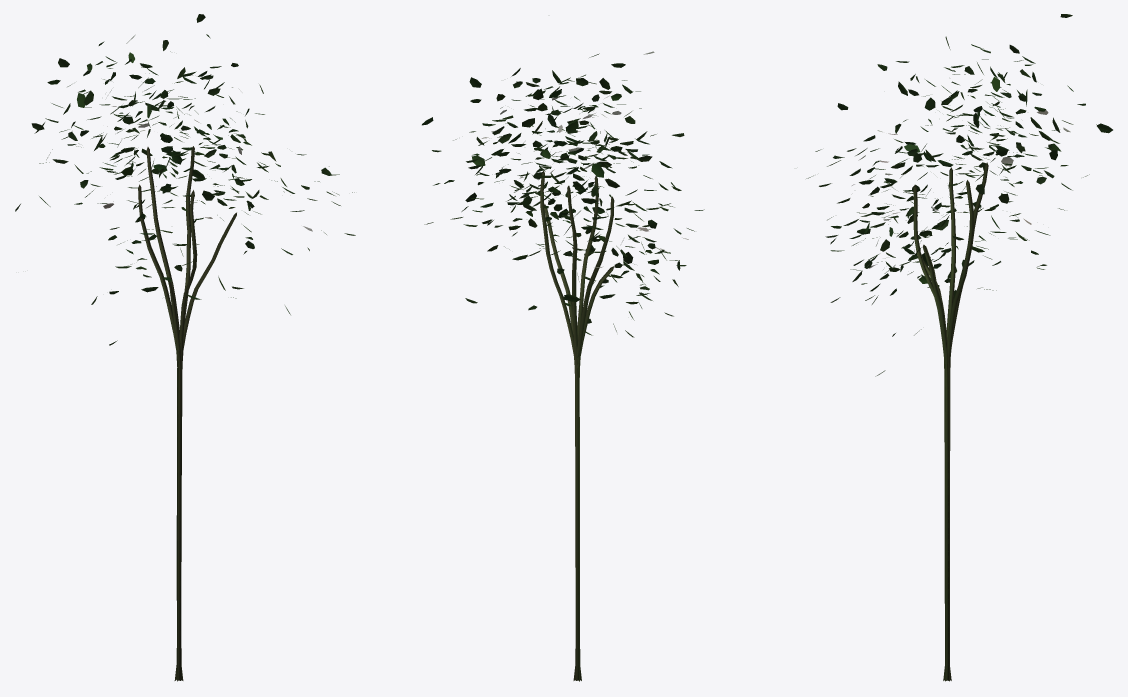
The model's file is SM_Tree_garden_rose_2.glb.
3 views of the same model, side by side, from view 1: azimuth 30°, elevation 25°; view 2: azimuth 150°, elevation 25°; view 3: azimuth 270°, elevation 25° (orthographic).
Parts seen in each view (by area): view 1: SM_Tree_garden_rose_2; view 2: SM_Tree_garden_rose_2; view 3: SM_Tree_garden_rose_2.
Boxes of the visible parts, left/top/right/bottom form: SM_Tree_garden_rose_2: left=15, top=14, right=355, bottom=681; SM_Tree_garden_rose_2: left=422, top=51, right=704, bottom=681; SM_Tree_garden_rose_2: left=806, top=14, right=1112, bottom=681.
Bounding box in the file's own units: 1.21 × 2.35 × 1.15.
